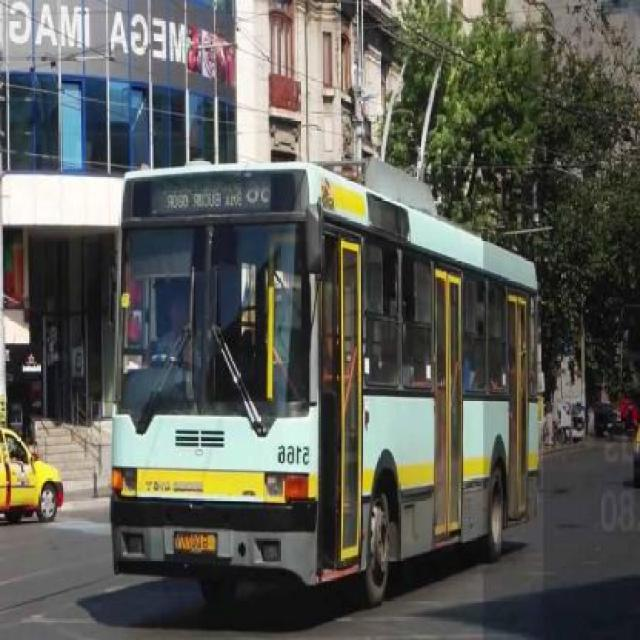bus: (113, 162, 541, 607)
